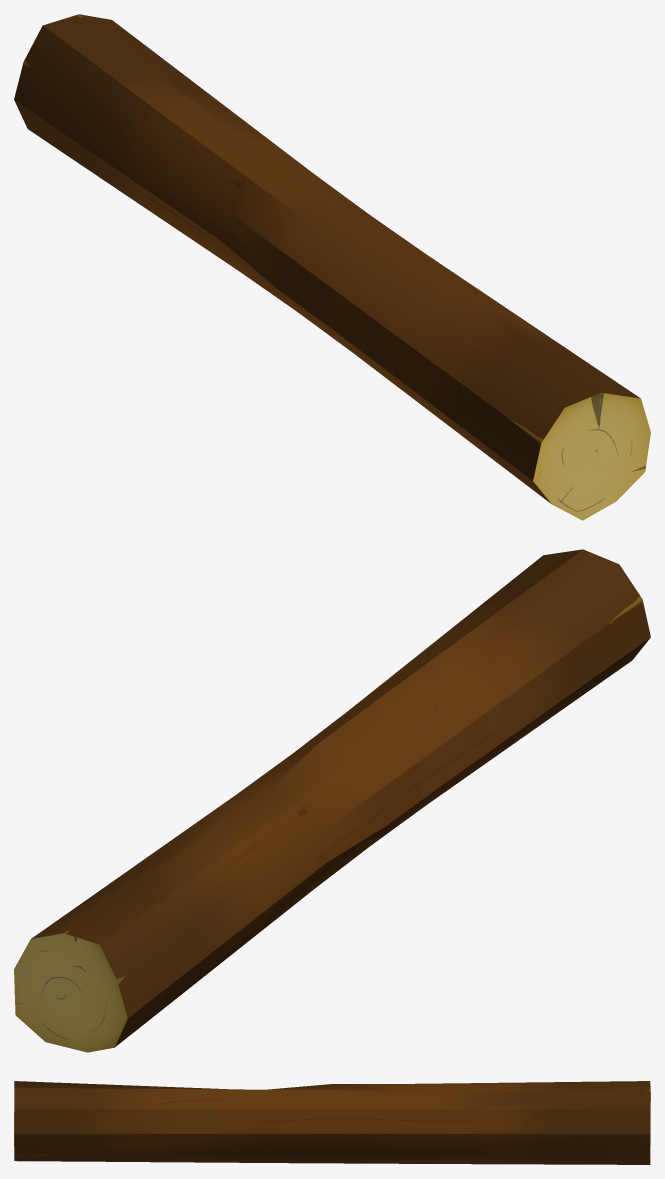
The model's file is Logs.fbx.
3 views of the same model, one above another, from view 1: azimuth 30°, elevation 25°; view 2: azimuth 150°, elevation 25°; view 3: azimuth 270°, elevation 25° (orthographic). The views are drawn at different scales.
Visible parts, largest first — view 1: Log; view 2: Log; view 3: Log.
Part boxes in pixels (bbox=[...]): Log: bbox=[14, 14, 650, 520]; Log: bbox=[14, 549, 650, 1052]; Log: bbox=[14, 1081, 650, 1164].
Bounding box in the file's own units: 197 × 198 × 1516.
